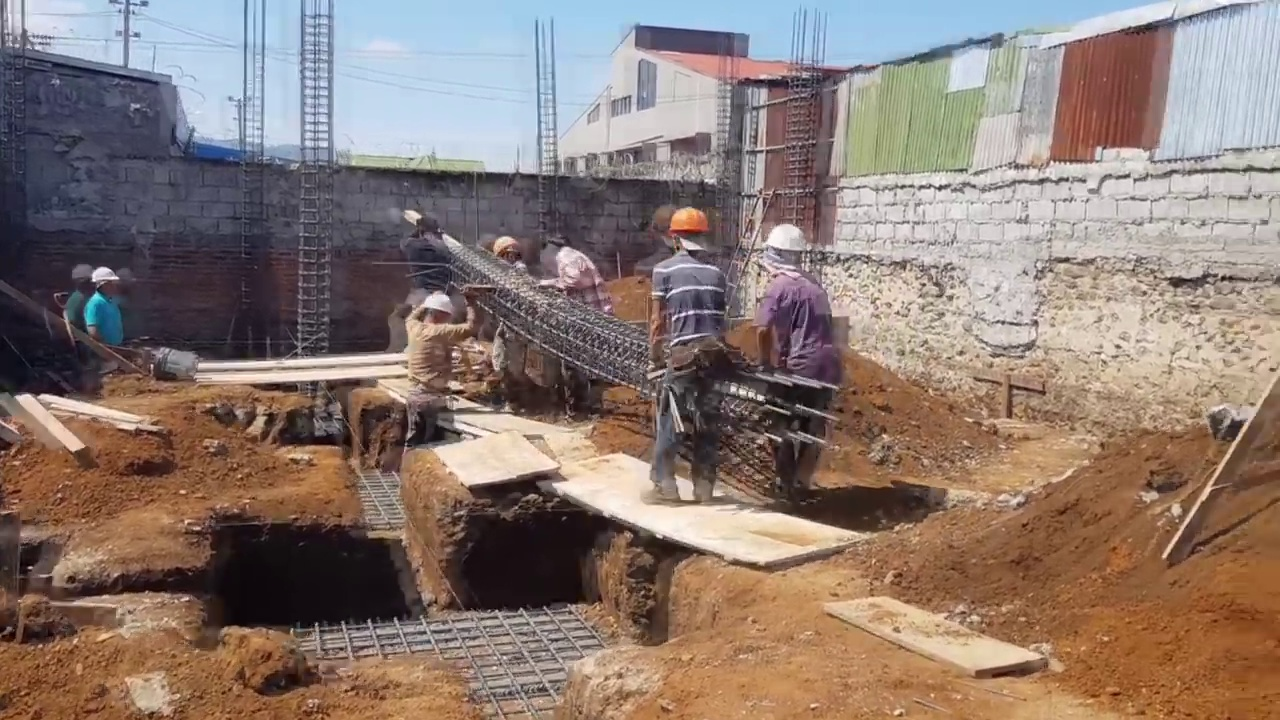helmet: (664, 206, 712, 235), (768, 223, 808, 256), (419, 291, 454, 314), (90, 267, 120, 287), (493, 235, 518, 257)
helmet-off: (416, 216, 444, 240), (542, 236, 570, 260)
helmet-on: (762, 225, 810, 277), (664, 205, 712, 255), (419, 291, 454, 329), (89, 267, 118, 298), (493, 234, 518, 265)
person: (649, 197, 732, 507), (747, 223, 833, 518), (535, 233, 612, 421), (399, 292, 468, 449), (486, 237, 526, 412), (61, 264, 124, 358), (400, 214, 450, 301)
